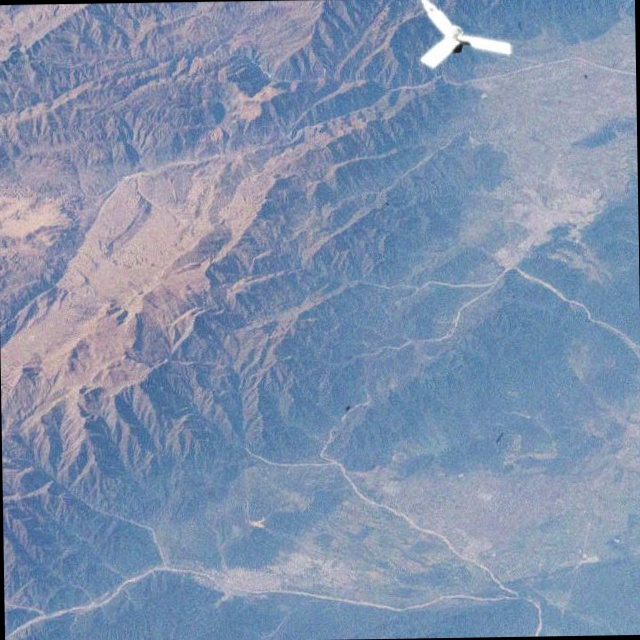satellite: (402, 0, 523, 85)
